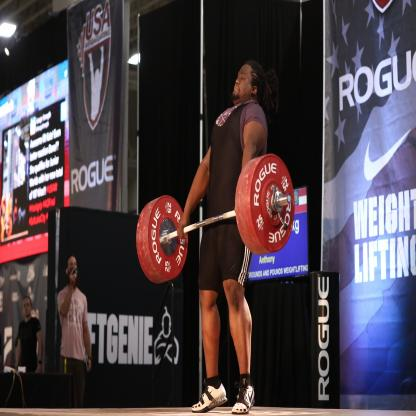barbell: (251, 155, 296, 253), (149, 196, 189, 281)
